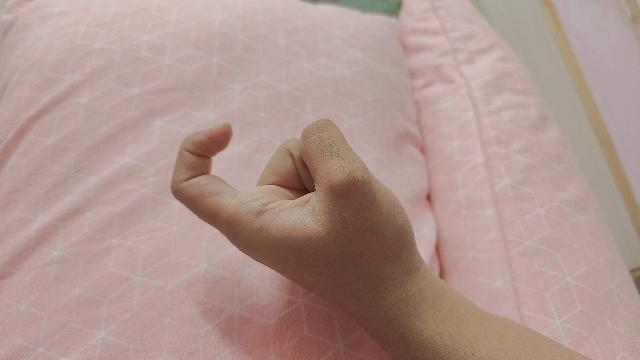tamrachud: (170, 119, 591, 360)
